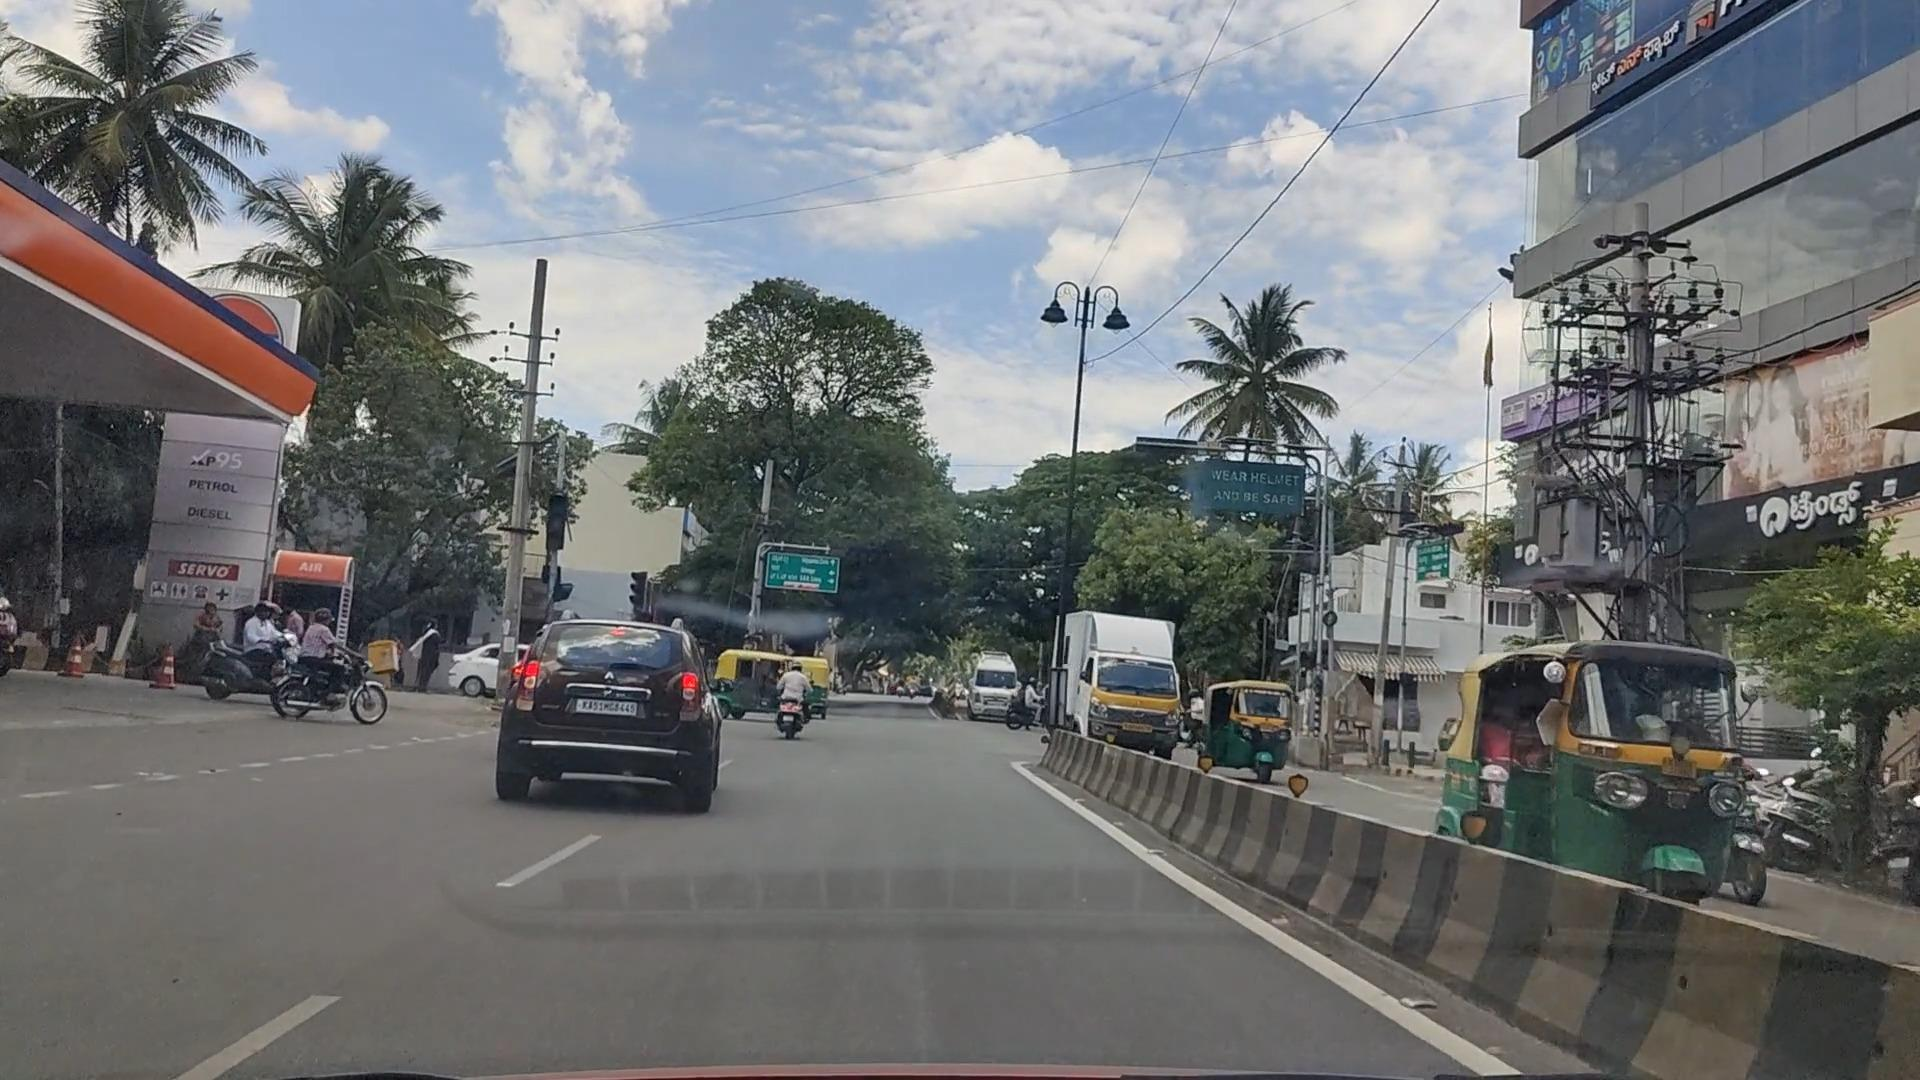LMV: (476, 597, 752, 824)
